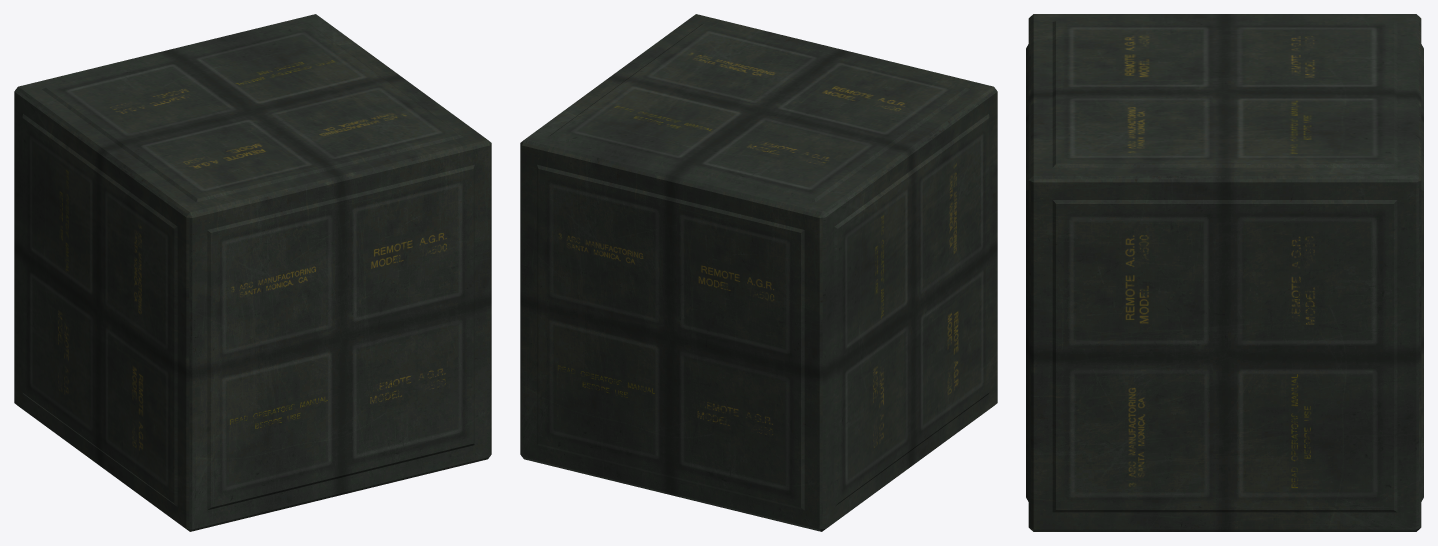
File: t6_wpn_drop_box_LOD1.obj
The picture shows the model from 3 angles, left to right: view 1: azimuth 30°, elevation 25°; view 2: azimuth 150°, elevation 25°; view 3: azimuth 270°, elevation 25°; orthographic projection. The views are drawn at different scales.
Visible parts, largest first — view 1: mtl_t6_wpn_drop_box; view 2: mtl_t6_wpn_drop_box; view 3: mtl_t6_wpn_drop_box.
Part boxes in pixels (x1=…): mtl_t6_wpn_drop_box: x1=14, y1=14, x2=491, y2=531; mtl_t6_wpn_drop_box: x1=520, y1=14, x2=997, y2=531; mtl_t6_wpn_drop_box: x1=1026, y1=14, x2=1423, y2=531.
Size of the model in its own units: 123 by 123 by 123.
